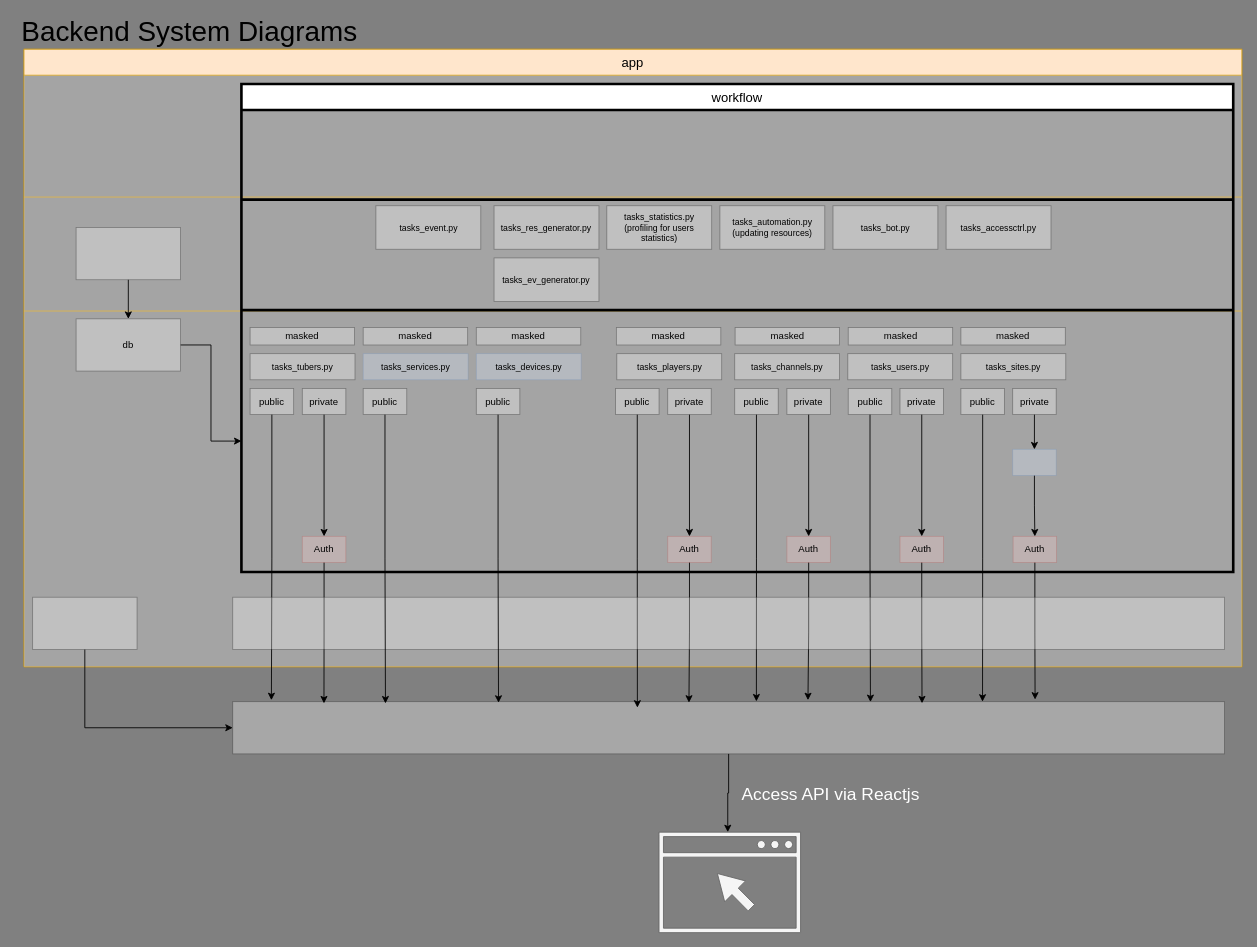
The diagram is 1257 pixels wide and 947 high, and some of its shapes have lost their labels. The shapes that lost their labels are listed below. From the top down, each one's centre as x and y in pixels, then its label:
At [128,253]: "dbctrl (for migration)".
At [1034,461]: "Service".
At [84,622]: "core (for auth, fastapi configuration and worker control)".
At [728,622]: "api dependencies v0 - per version".
At [728,727]: "FastAPI".
